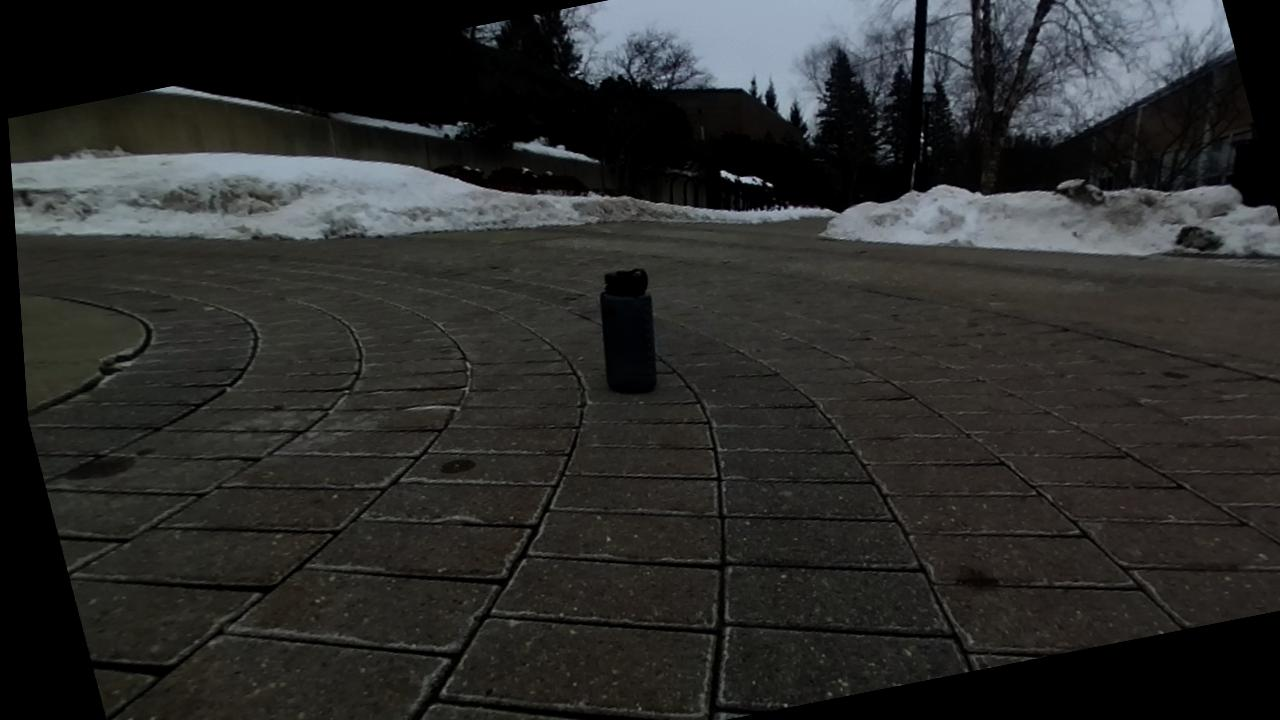bottle: (599, 268, 656, 391)
